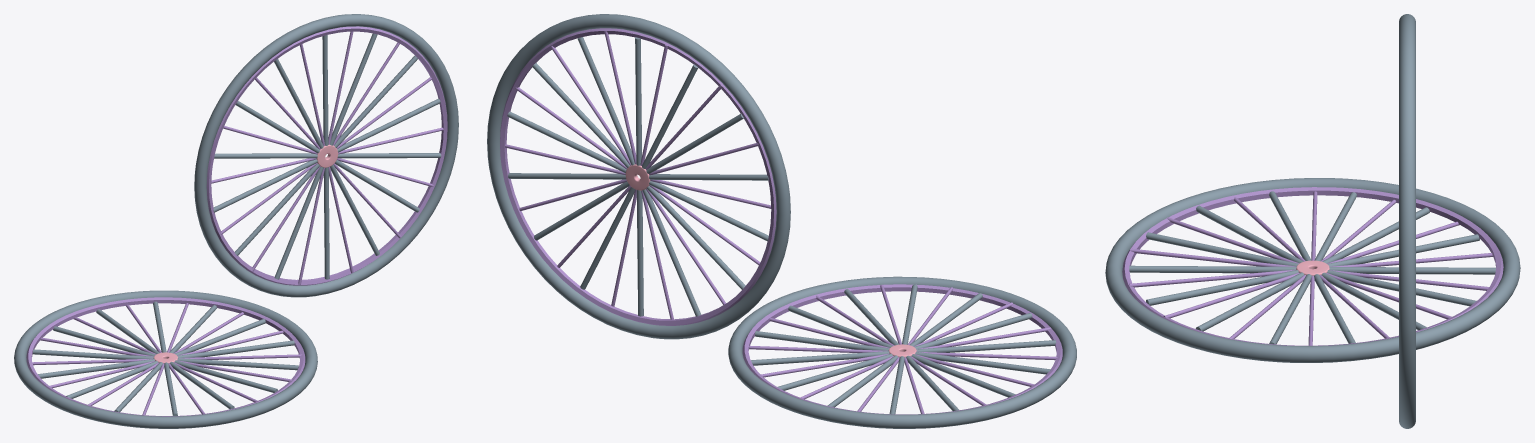
The model's file is tire.gltf.
3 views of the same model, side by side, from view 1: azimuth 30°, elevation 25°; view 2: azimuth 150°, elevation 25°; view 3: azimuth 270°, elevation 25° (orthographic). The views are drawn at different scales.
Visible parts, largest first — view 1: Sweep, Sweep.2, Sweep.1, Sweep.3, Cylinder 11 (×2), Cylinder 4 (×2), Cylinder 5 (×2), Cylinder 12 (×2), Cylinder 10 (×2), Cylinder 3 (×2), Cylinder 6 (×2), Cylinder 13 (×2) (+6 smaller); view 2: Sweep, Sweep.2, Sweep.1, Sweep.3, Cylinder 2 (×3), Cylinder 1 (×3), Cylinder 9 (×2), Cylinder 10 (×2), Cylinder 3 (×2), Cylinder 8 (×2), Cylinder 11 (×2), Cylinder 4 (×2) (+6 smaller); view 3: Sweep.2, Sweep, Sweep.3, Cylinder 7 (×2), Cylinder 8 (×2), Cylinder 6 (×2), Cylinder 0 (×2), Cylinder 1 (×2), Cylinder 13 (×2), Cylinder 9 (×2), Cylinder 5 (×2), Cylinder 2 (×2) (+6 smaller).
Boxes of the visible parts, left/top/right/bottom form: Sweep: left=194, top=14, right=458, bottom=297; Sweep.2: left=14, top=290, right=317, bottom=428; Sweep.1: left=206, top=26, right=447, bottom=285; Sweep.3: left=26, top=297, right=305, bottom=416; Cylinder 11 (×2): left=38, top=153, right=317, bottom=378; Cylinder 4 (×2): left=177, top=153, right=441, bottom=357; Cylinder 5 (×2): left=177, top=160, right=419, bottom=370; Cylinder 12 (×2): left=33, top=101, right=319, bottom=359; Cylinder 10 (×2): left=66, top=159, right=317, bottom=398; Cylinder 3 (×2): left=174, top=98, right=440, bottom=355; Cylinder 6 (×2): left=174, top=164, right=379, bottom=392; Cylinder 13 (×2): left=53, top=59, right=323, bottom=356; Sweep: left=487, top=14, right=790, bottom=339; Sweep.2: left=728, top=276, right=1076, bottom=428; Sweep.1: left=500, top=28, right=776, bottom=325; Sweep.3: left=742, top=284, right=1062, bottom=414; Cylinder 2 (×3): left=532, top=46, right=889, bottom=365; Cylinder 1 (×3): left=577, top=31, right=892, bottom=390; Cylinder 9 (×2): left=646, top=186, right=1056, bottom=352; Cylinder 10 (×2): left=649, top=181, right=1050, bottom=374; Cylinder 3 (×2): left=507, top=111, right=889, bottom=350; Cylinder 8 (×2): left=642, top=189, right=1032, bottom=348; Cylinder 11 (×2): left=649, top=174, right=1015, bottom=397; Cylinder 4 (×2): left=508, top=173, right=892, bottom=347; Sweep.2: left=1105, top=178, right=1520, bottom=362; Sweep: left=1399, top=14, right=1415, bottom=428; Sweep.3: left=1122, top=187, right=1503, bottom=345; Cylinder 7 (×2): left=1129, top=265, right=1296, bottom=287; Cylinder 8 (×2): left=1130, top=232, right=1298, bottom=266; Cylinder 6 (×2): left=1146, top=270, right=1299, bottom=318; Cylinder 0 (×2): left=1329, top=253, right=1495, bottom=274; Cylinder 1 (×2): left=1327, top=270, right=1488, bottom=306; Cylinder 13 (×2): left=1327, top=221, right=1479, bottom=266; Cylinder 9 (×2): left=1167, top=205, right=1303, bottom=263; Cylinder 5 (×2): left=1195, top=272, right=1305, bottom=338; Cylinder 2 (×2): left=1321, top=272, right=1451, bottom=330.
Size of the model in its own units: 10302 by 5931 by 5913.
